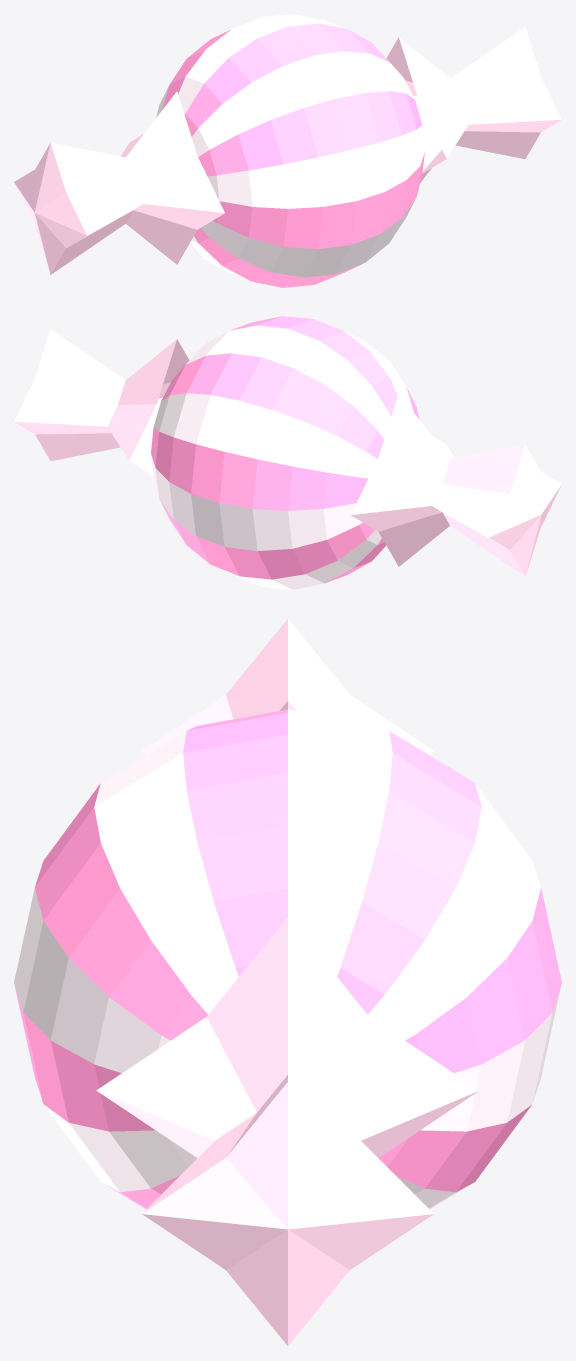
Rendered from Candy_Treat.glb.
3 renders of one model, top to bottom at view 1: azimuth 30°, elevation 25°; view 2: azimuth 150°, elevation 25°; view 3: azimuth 270°, elevation 25°, orthographic. The views are drawn at different scales.
Visible parts, largest first — view 1: Candy_Treat; view 2: Candy_Treat; view 3: Candy_Treat.
Part boxes in pixels (bbox=[...]): Candy_Treat: bbox=[14, 14, 561, 287]; Candy_Treat: bbox=[14, 316, 561, 589]; Candy_Treat: bbox=[14, 619, 561, 1345].
Size of the model in its own units: 0.64 by 0.3 by 0.3.
